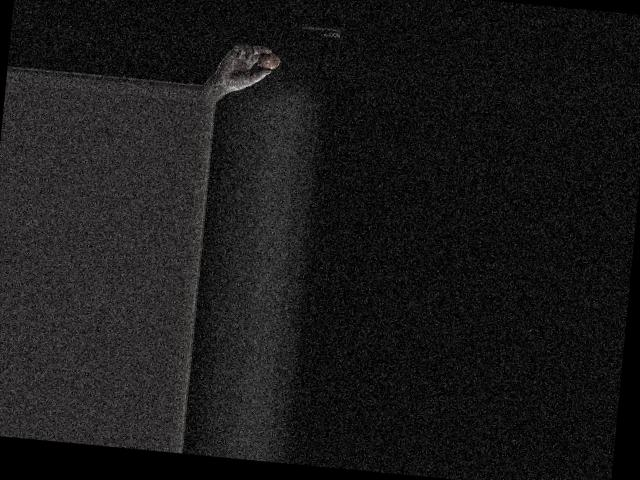egg: (256, 52, 280, 70)
